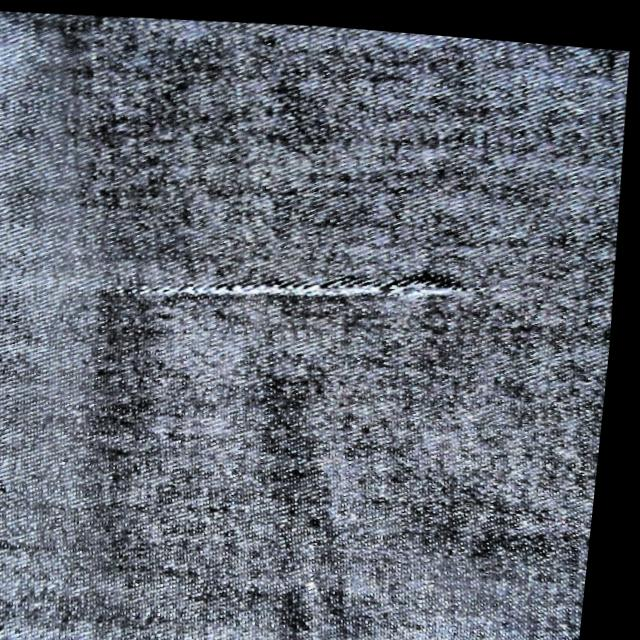Stitch: (92, 231, 538, 327)
